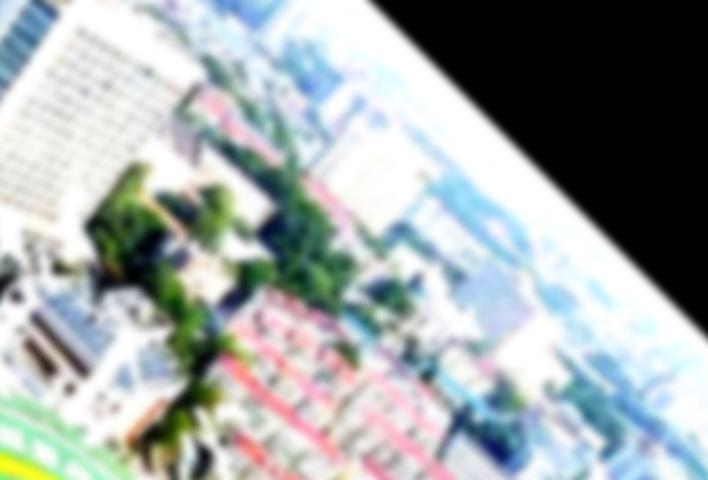Apron: (1, 451, 68, 479)
